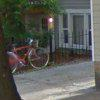Bicycle: (8, 36, 53, 75)
